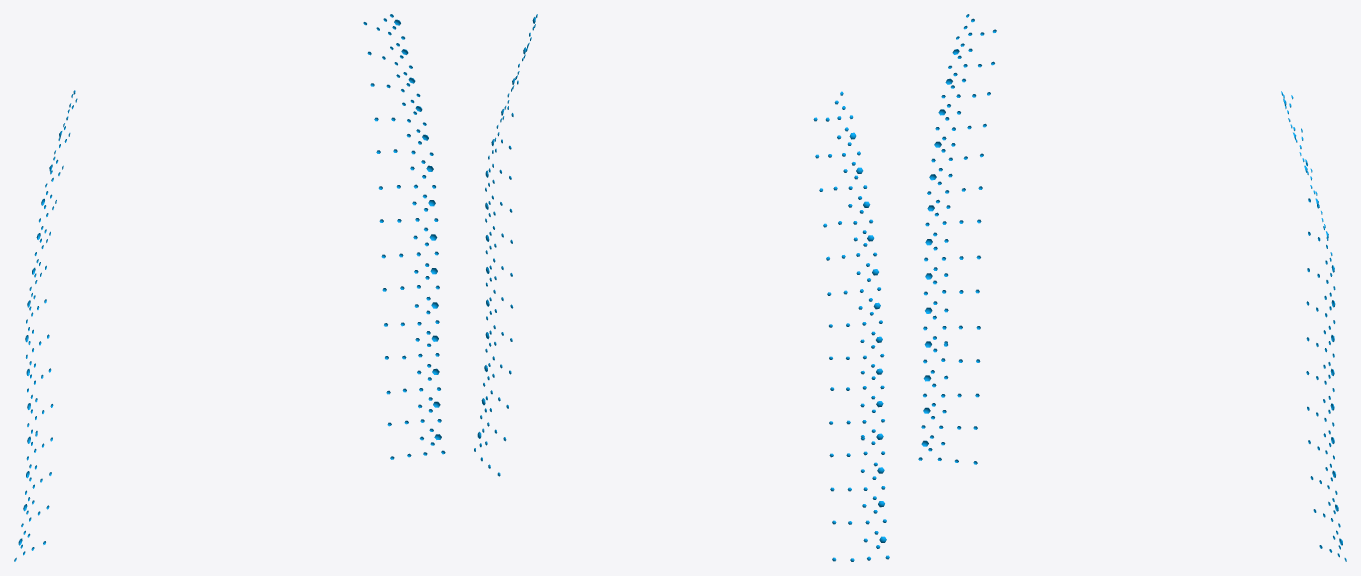
File: crystals-back.glb
3 views of the same model, side by side, from view 1: azimuth 30°, elevation 25°; view 2: azimuth 150°, elevation 25°; view 3: azimuth 330°, elevation 25° (orthographic). The views are drawn at different scales.
Visible parts, largest first — view 1: crystals-back; view 2: crystals-back; view 3: crystals-back.
Part boxes in pixels (x1,y1,x2,y2): crystals-back: [14, 14, 445, 561]; crystals-back: [474, 14, 889, 561]; crystals-back: [918, 14, 1346, 561].
Bounding box in the file's own units: 1.76 × 1.83 × 0.191.
